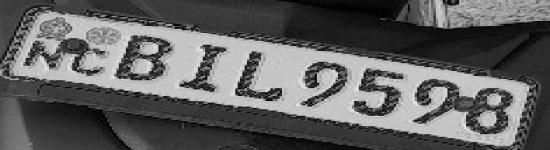5: (354, 65, 412, 118)
8: (466, 86, 515, 136)
9: (288, 59, 350, 111), (412, 76, 464, 126)
B: (112, 33, 174, 82)
C: (68, 47, 112, 77)
I: (175, 43, 229, 94)
L: (229, 49, 287, 102)
N: (20, 41, 68, 72)
